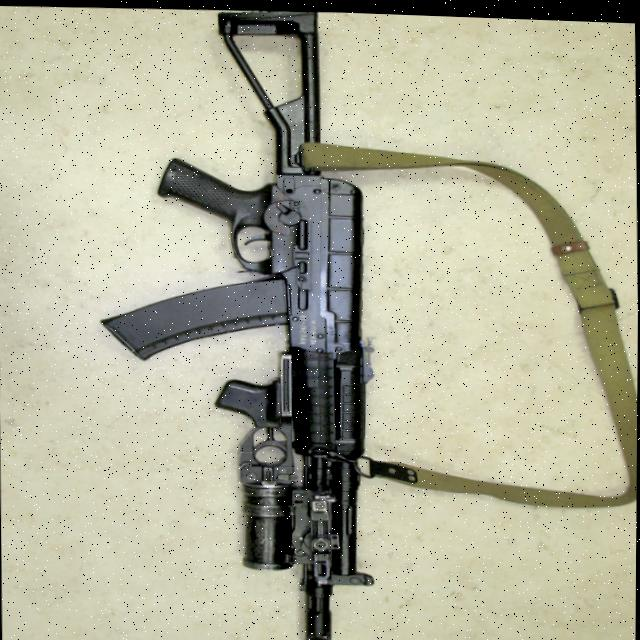firearm: (91, 3, 380, 640)
